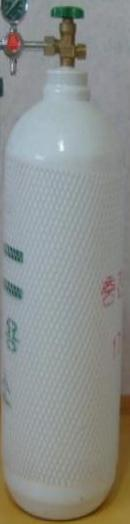cylinder: (1, 1, 130, 524)
